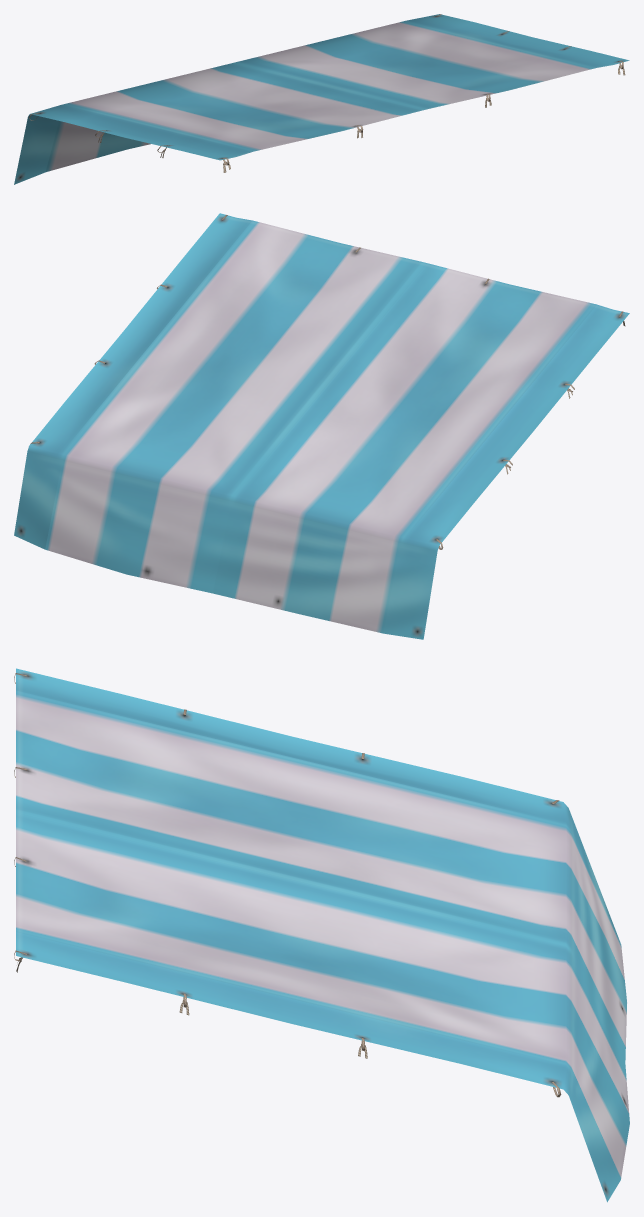
The model's file is jsf_Ceiling_s02_c02_t02.fbx.
3 renders of one model, top to bottom at view 1: azimuth 30°, elevation 25°; view 2: azimuth 150°, elevation 25°; view 3: azimuth 270°, elevation 25°, orthographic. The views are drawn at different scales.
Visible parts, largest first — view 1: jsf_Ceiling_s02_c02_t02; view 2: jsf_Ceiling_s02_c02_t02; view 3: jsf_Ceiling_s02_c02_t02.
Boxes of the visible parts, bbox=[...] form: jsf_Ceiling_s02_c02_t02: bbox=[14, 14, 629, 184]; jsf_Ceiling_s02_c02_t02: bbox=[14, 213, 629, 639]; jsf_Ceiling_s02_c02_t02: bbox=[14, 668, 629, 1202].
Bounding box in the file's own units: 263 × 106 × 234.
